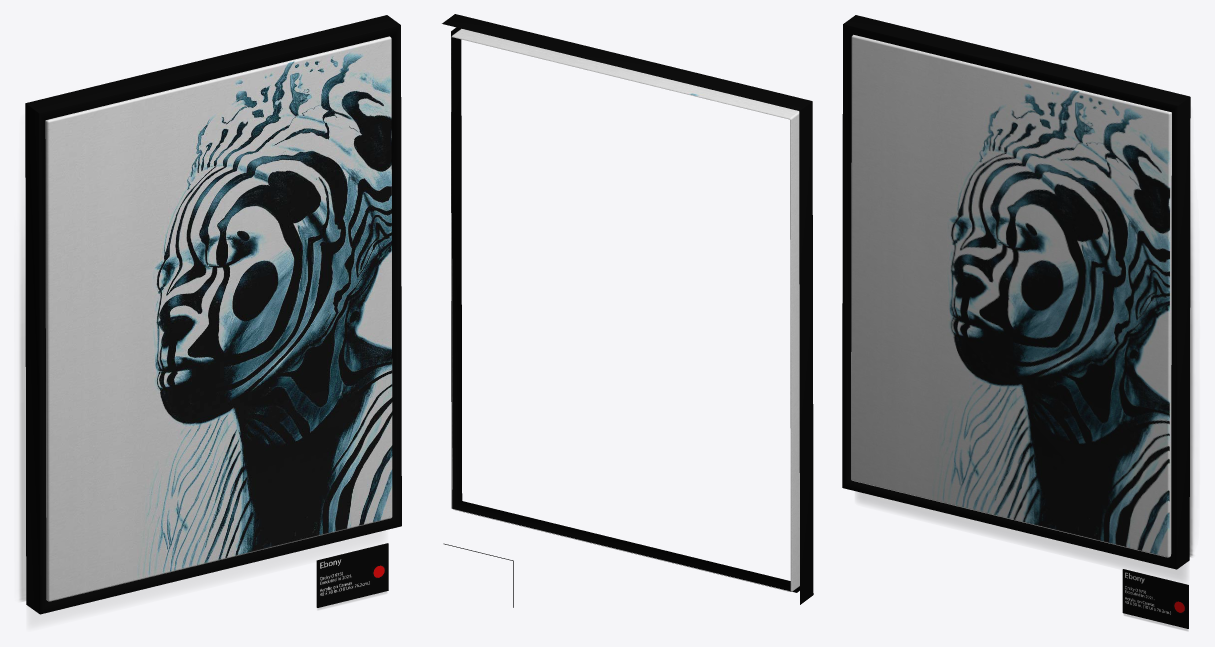
The model's file is ebony.glb.
The picture shows the model from 3 angles, left to right: view 1: azimuth 30°, elevation 25°; view 2: azimuth 150°, elevation 25°; view 3: azimuth 330°, elevation 25°; orthographic projection. The views are drawn at different scales.
Visible parts, largest first — view 1: Canvas, frame, title, Plane001; view 2: frame, Canvas; view 3: Canvas, frame, title, Plane001.
Part boxes in pixels (x1,y1,x2,y2): Canvas: [45, 36, 392, 601]; frame: [25, 15, 401, 628]; title: [316, 543, 388, 610]; Plane001: [18, 153, 26, 601]; frame: [442, 14, 813, 604]; Canvas: [451, 28, 799, 591]; Canvas: [851, 34, 1171, 557]; frame: [842, 15, 1190, 582]; title: [1122, 569, 1188, 630]; Plane001: [1189, 166, 1194, 557].
Bounding box in the file's own units: 8.47 × 12.24 × 0.5889.
3 materials, 2 textured.
